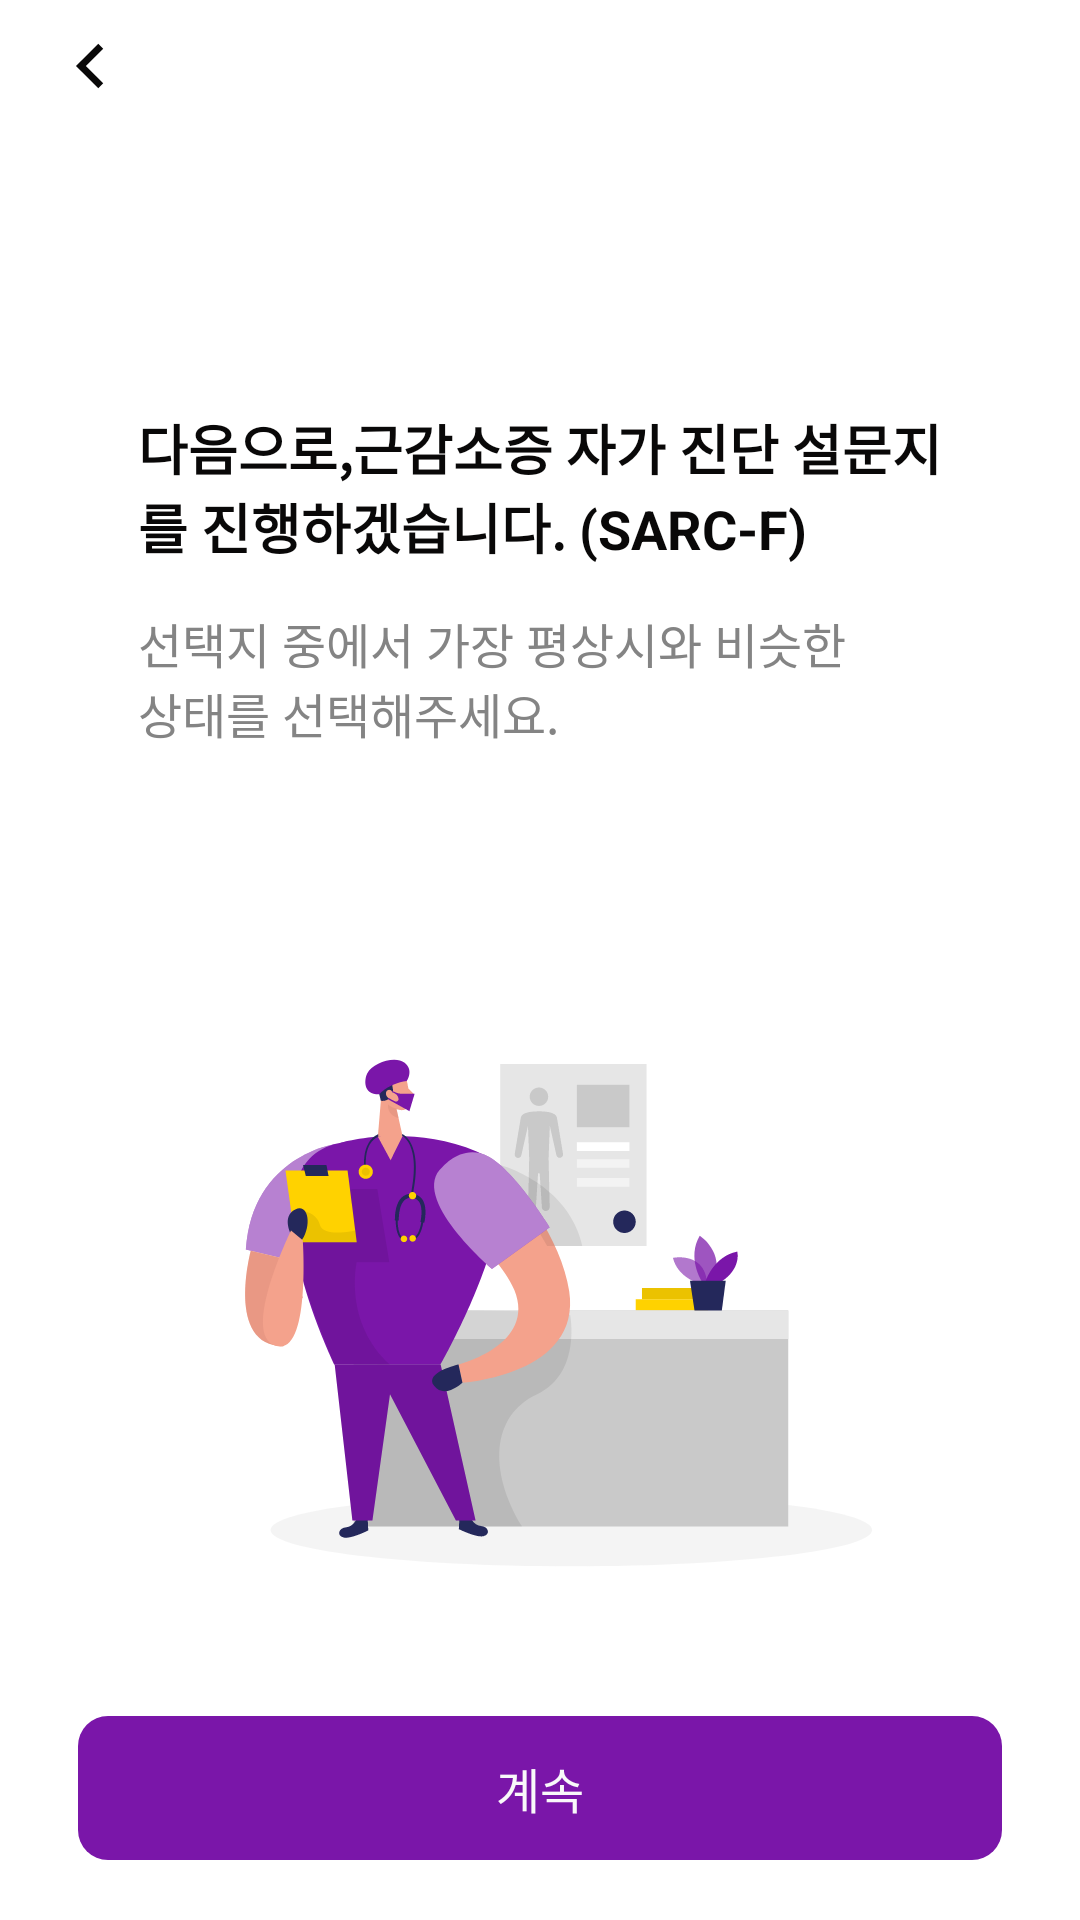

Where icons sit on this 1080px x 1920px app screen, as (x1, y1, x2, y2):
arrow: (76, 44, 103, 88)
